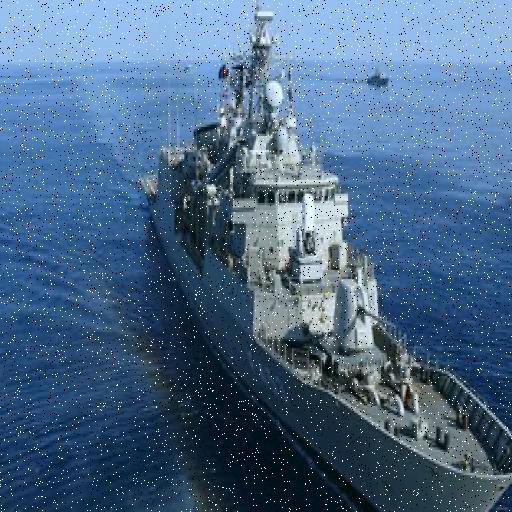Fragata: (136, 1, 512, 512)
